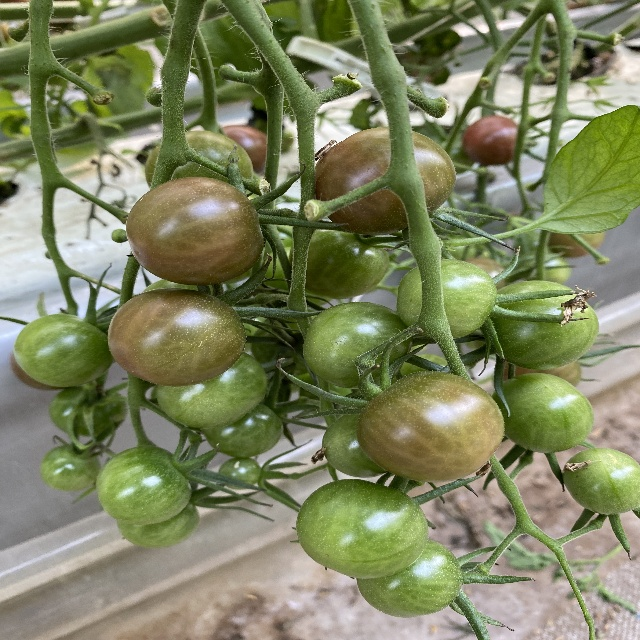l_green: (356, 371, 506, 483), (125, 178, 265, 286), (317, 127, 458, 234), (109, 289, 245, 386), (297, 479, 427, 579), (487, 280, 597, 369), (301, 302, 411, 388), (157, 352, 266, 430), (355, 540, 461, 618), (495, 374, 596, 453), (397, 260, 498, 339), (96, 446, 190, 524), (15, 313, 114, 386), (146, 131, 252, 191), (304, 229, 389, 300), (564, 447, 639, 515), (321, 407, 386, 478), (48, 384, 127, 438), (204, 405, 283, 457), (119, 500, 200, 545), (41, 446, 101, 490), (220, 457, 260, 491)
